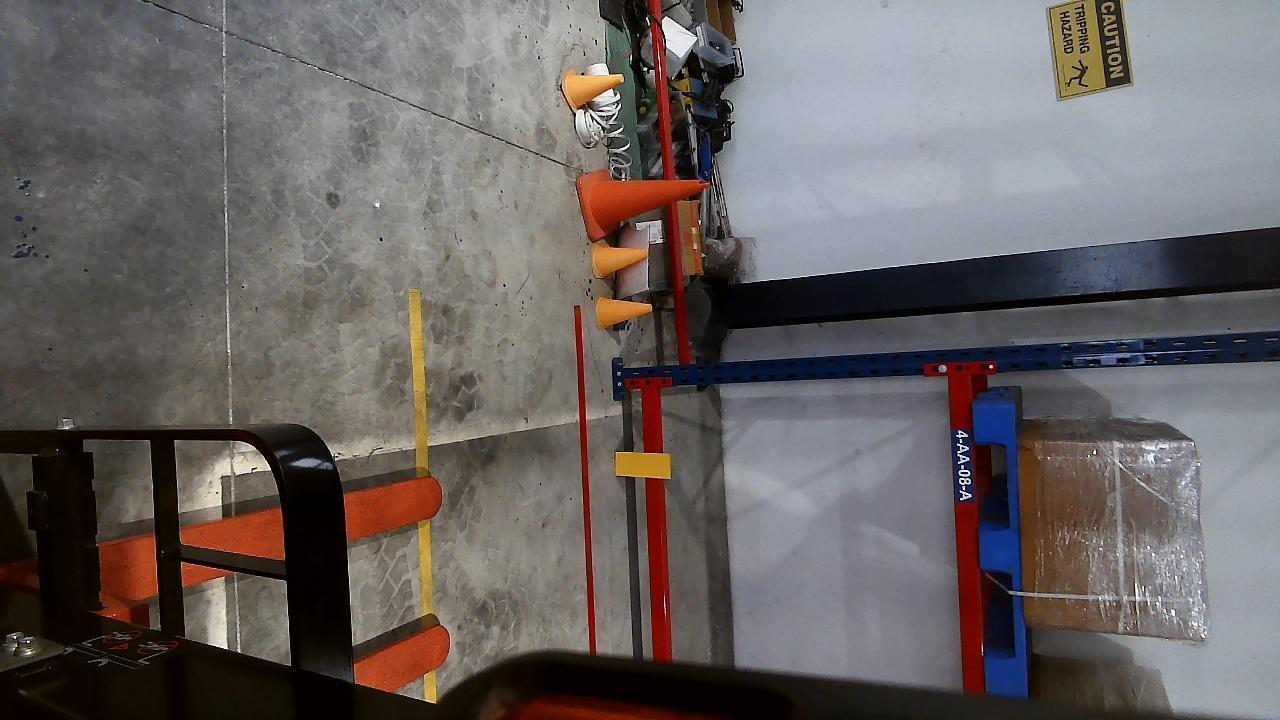red_line: (572, 305, 599, 655)
yellow_line: (410, 289, 443, 699)
